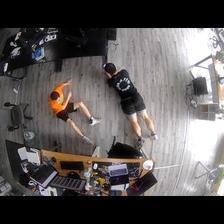fall: (102, 63, 160, 144), (46, 78, 98, 144)
